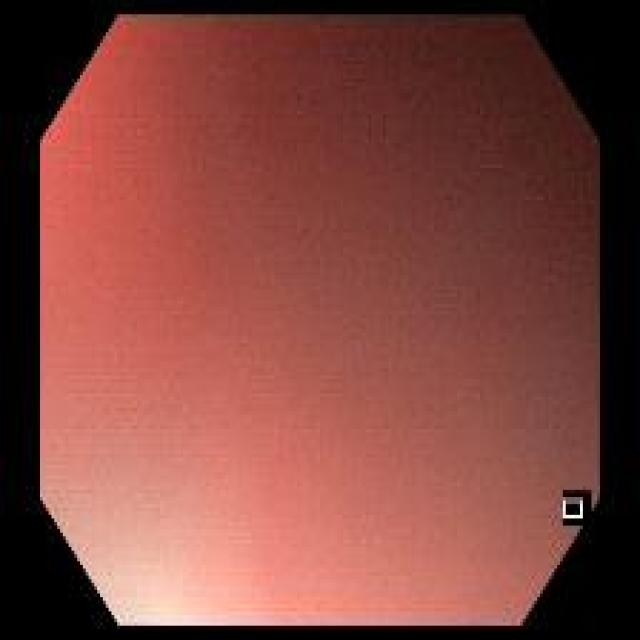color misalignment: (43, 18, 600, 626), (563, 493, 589, 526)
